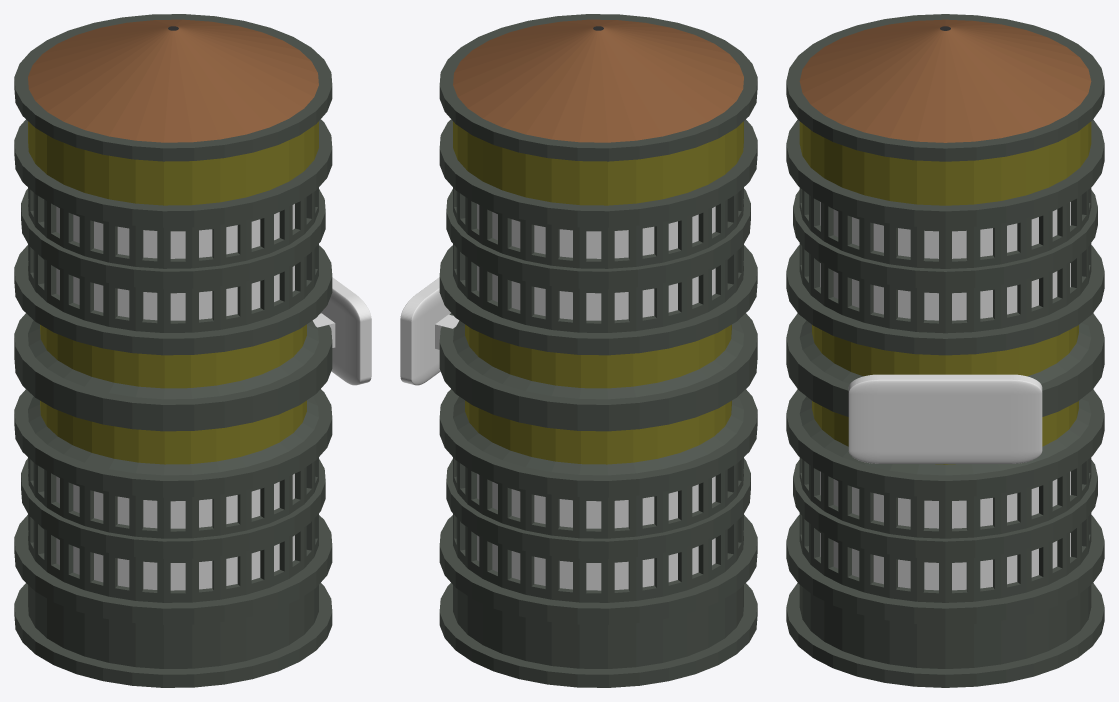
Rendered from zhb_tower.fbx.
3 renders of one model, left to right at view 1: azimuth 30°, elevation 25°; view 2: azimuth 150°, elevation 25°; view 3: azimuth 270°, elevation 25°, orthographic.
Parts seen in each view (by area): view 1: Cylinder.001; view 2: Cylinder.001; view 3: Cylinder.001, Object.
Part boxes in pixels (x1,y1,x2,y2): Cylinder.001: [14, 14, 371, 687]; Cylinder.001: [400, 14, 757, 687]; Cylinder.001: [786, 14, 1104, 687]; Object: [897, 408, 993, 443].
Size of the model in its own units: 231 by 448 by 218.
